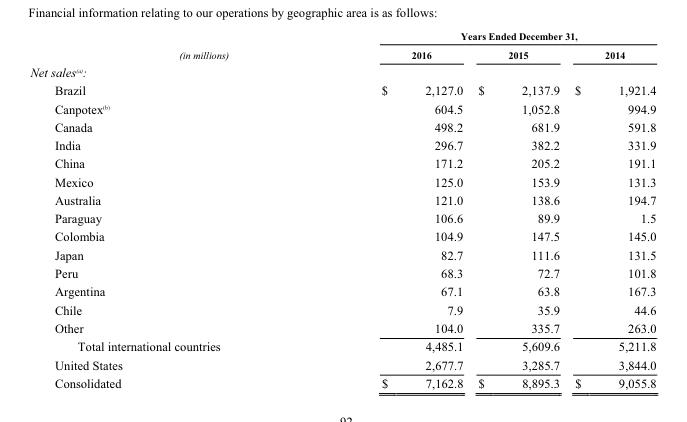table: (29, 28, 655, 390)
table column: (29, 28, 304, 390), (304, 28, 469, 390), (469, 28, 566, 390), (566, 28, 655, 390)
table column header: (29, 28, 655, 62)
table projected row header: (29, 62, 655, 80)
table row: (29, 98, 655, 117), (29, 153, 655, 172), (29, 226, 655, 245), (29, 281, 655, 300), (29, 354, 655, 373), (29, 62, 655, 80), (29, 80, 655, 98), (29, 117, 655, 135), (29, 135, 655, 153), (29, 172, 655, 190), (29, 190, 655, 208), (29, 208, 655, 226), (29, 245, 655, 263), (29, 263, 655, 281), (29, 300, 655, 318), (29, 318, 655, 336), (29, 336, 655, 354), (29, 28, 655, 45), (29, 45, 655, 62), (29, 373, 655, 390)
table spanning cell: (29, 28, 304, 62), (304, 28, 655, 45)
